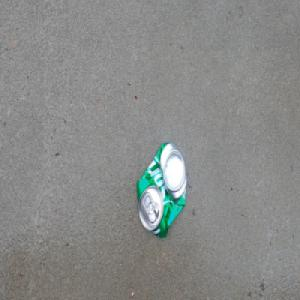SodaCan: (135, 139, 188, 240)
